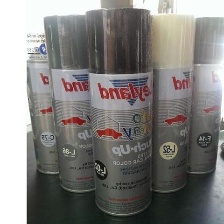aerosol_cans: (83, 2, 156, 219), (40, 9, 118, 195), (125, 8, 202, 195), (20, 9, 80, 176), (165, 13, 223, 177)
